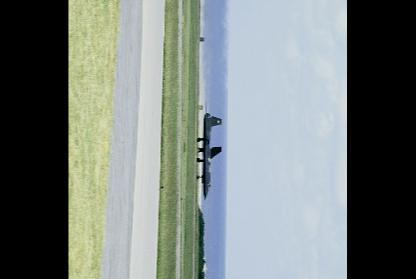Rafale: (197, 101, 222, 199)
